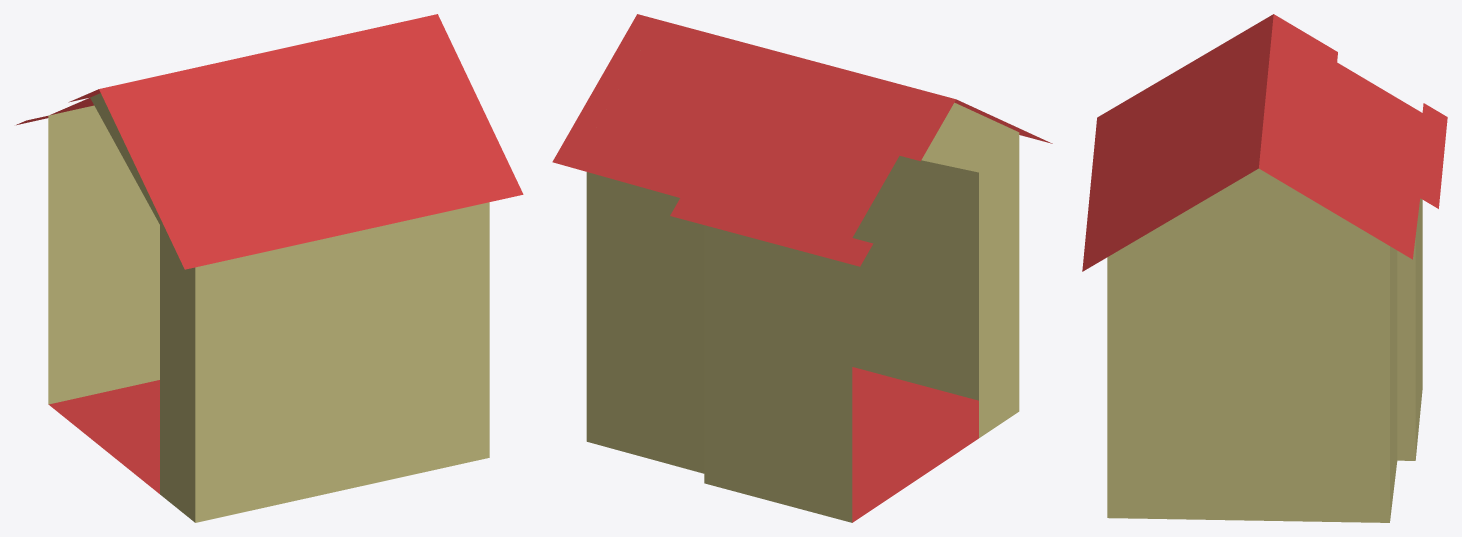
3 views of the same model, side by side, from view 1: azimuth 30°, elevation 25°; view 2: azimuth 150°, elevation 25°; view 3: azimuth 270°, elevation 25° (orthographic). The views are drawn at different scales.
Size of the model in its own units: 11.76 by 11.34 by 12.42.
